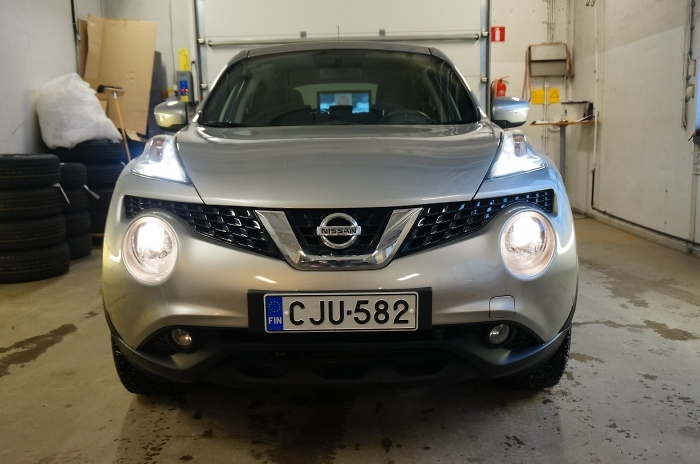license: (262, 289, 419, 333)
